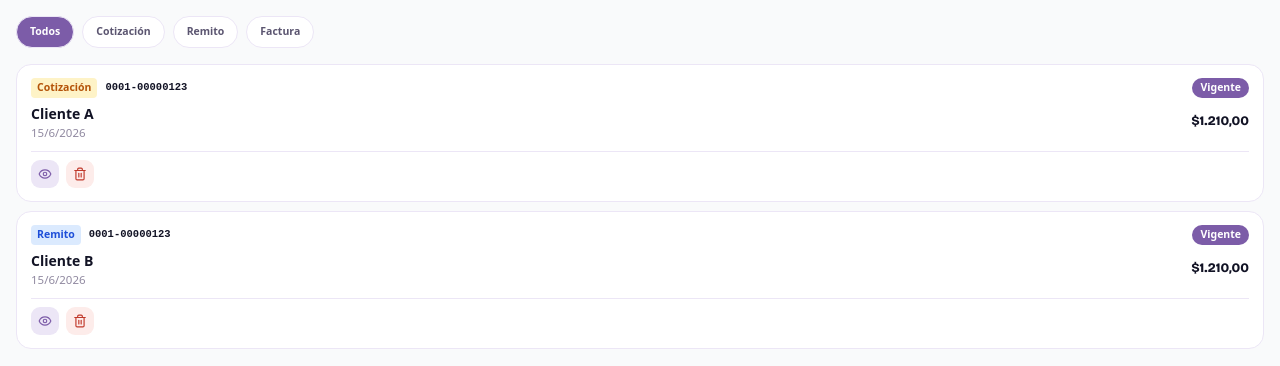
Scenario: MobileComprobantes — chip filter › filters the list to only quotations when "Cotización" chip is clicked
Expected: the text "Cliente A" is shown, left=31, top=104, right=94, bottom=122
Click the button "Cotización".
click(123, 32)  # box left=82, top=16, right=165, bottom=48
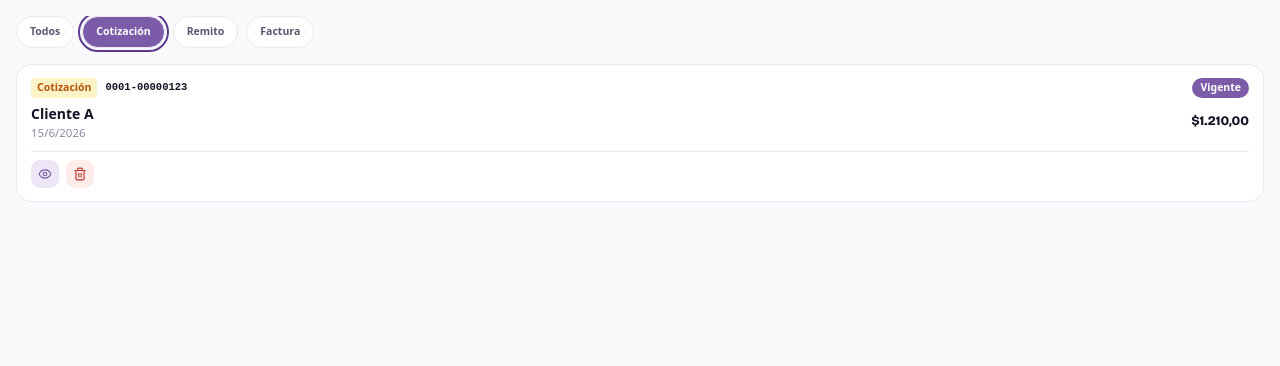
Expected: the text "Cliente A" is shown, left=31, top=104, right=94, bottom=122
Expected: the text "Cliente B" is gone
